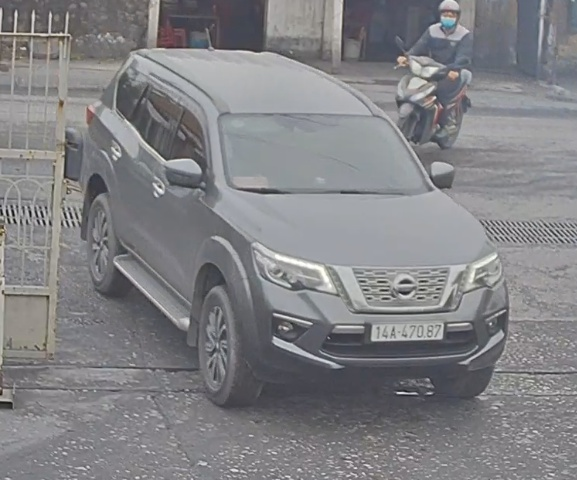vehicle plate: (363, 318, 450, 349)
